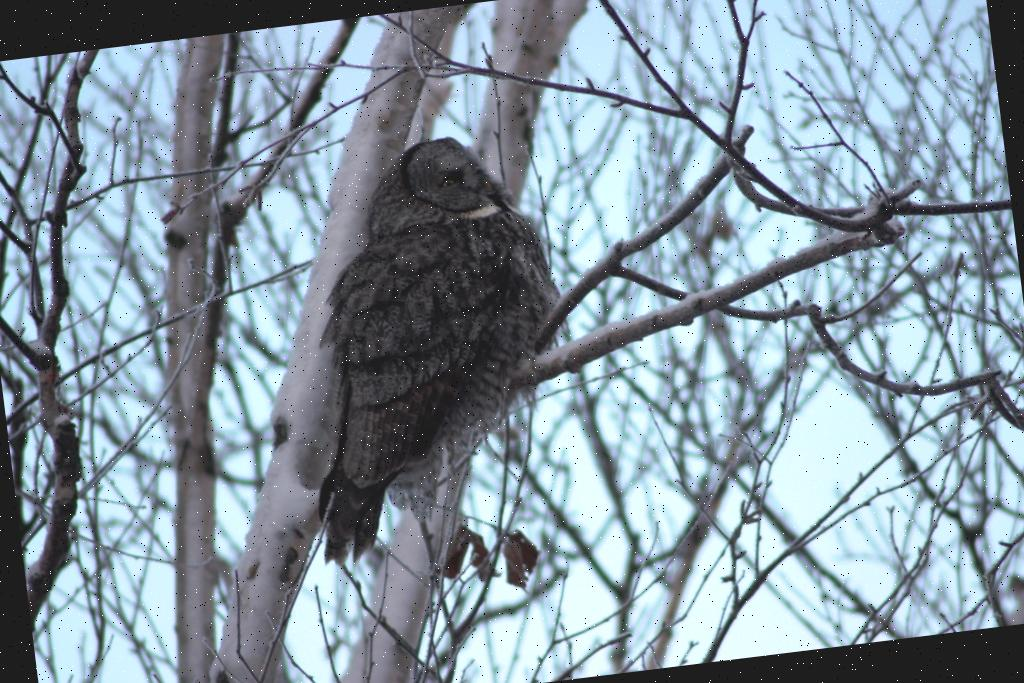Owl: (274, 123, 585, 568)
